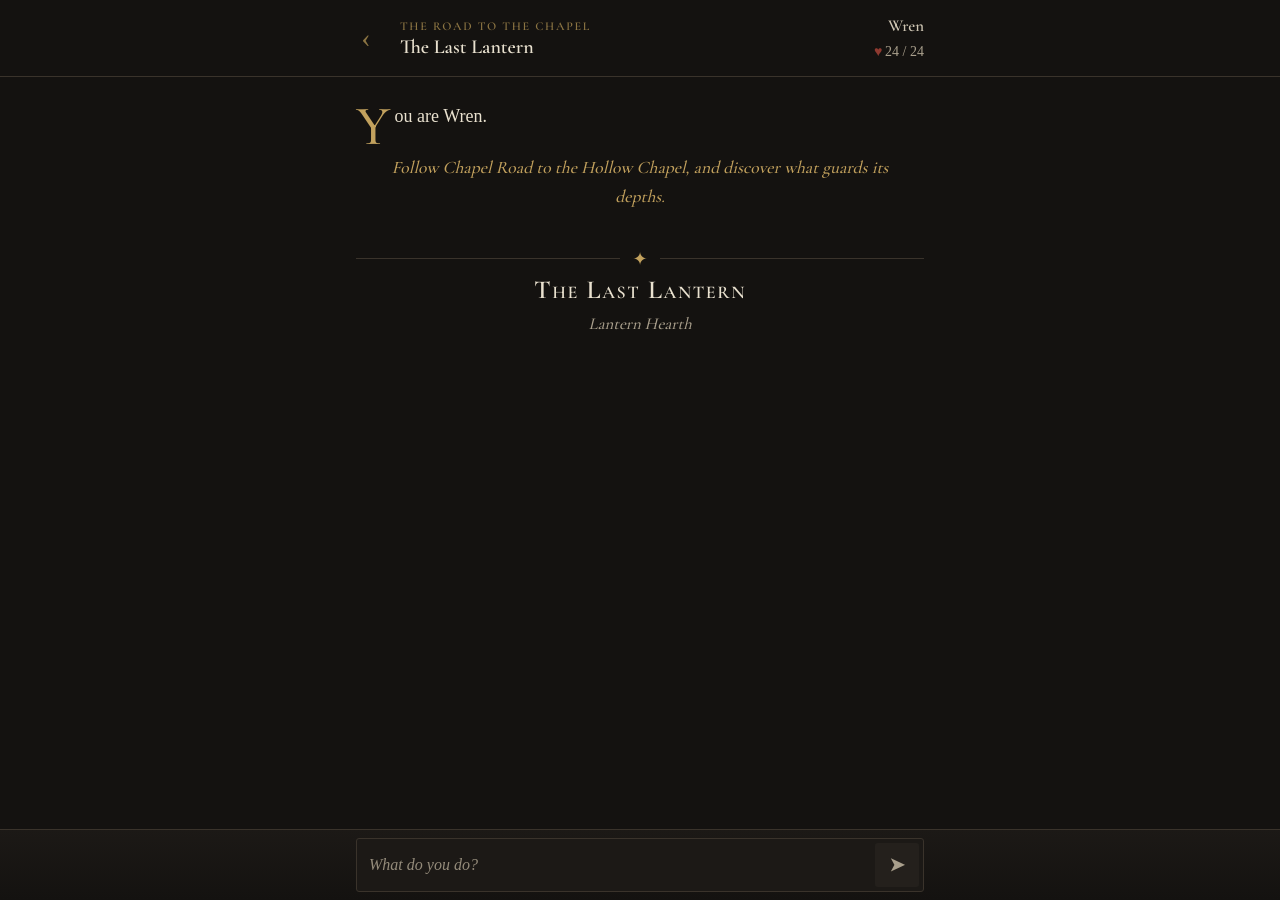
Test: when the answer is lost or deferred › recovers a lost response with the same key and shows the turn once
The width and height of the screenshot is (1280, 900).
expect the element named "Introduction" is shown: met, box [356,92,487,160]
Type "I wait." into the text box named "Your action" at {"x": 618, "y": 865}, box [369,843,867,887]
Then press Enter
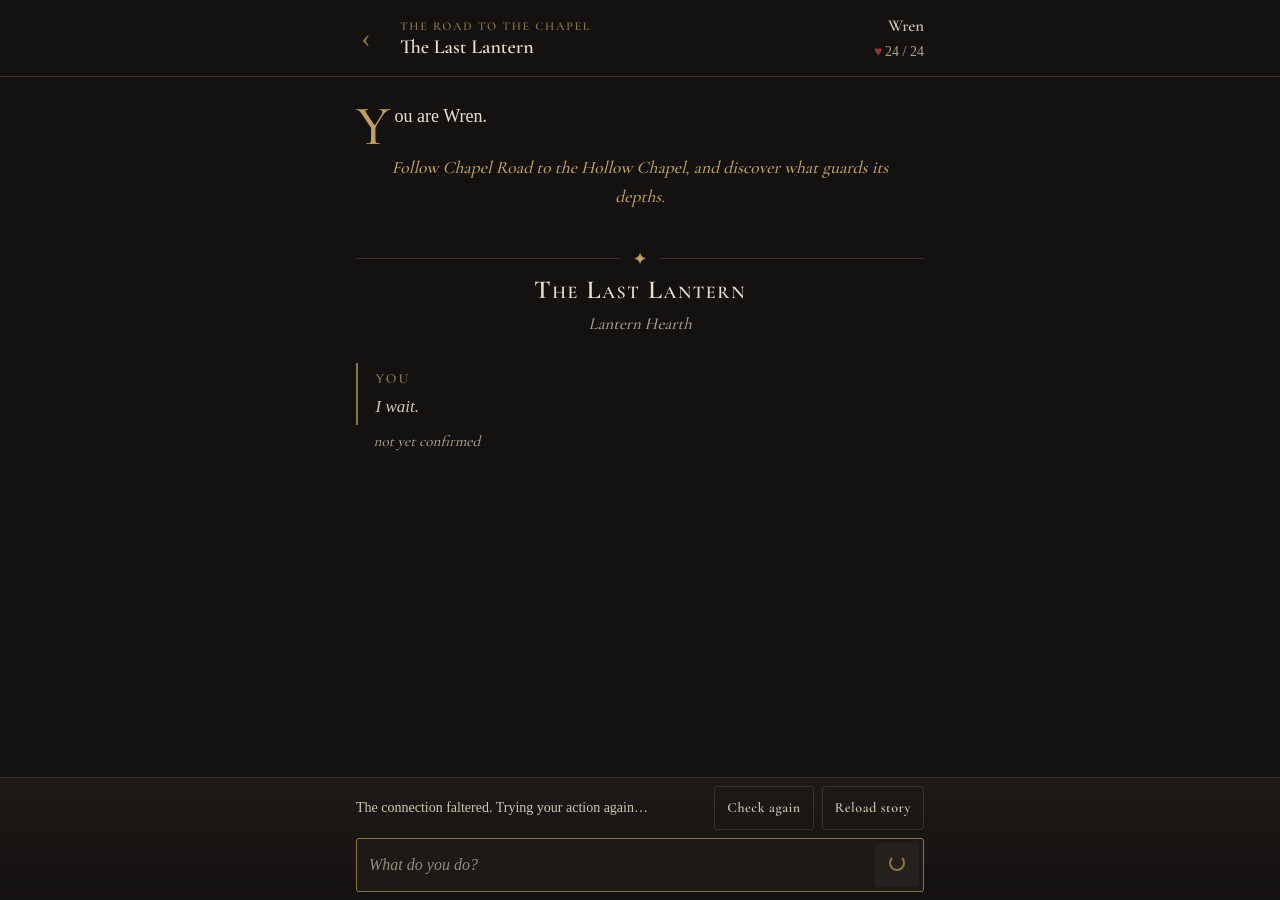
expect the text "The connection faltered. Trying your action again…" is shown: met, box [356,798,648,818]
expect the element named "Your action, not yet confirmed" shows "I wait.": met, box [376,396,419,416]
Click the button "Check again" at {"x": 764, "y": 808}, box [714,786,814,830]
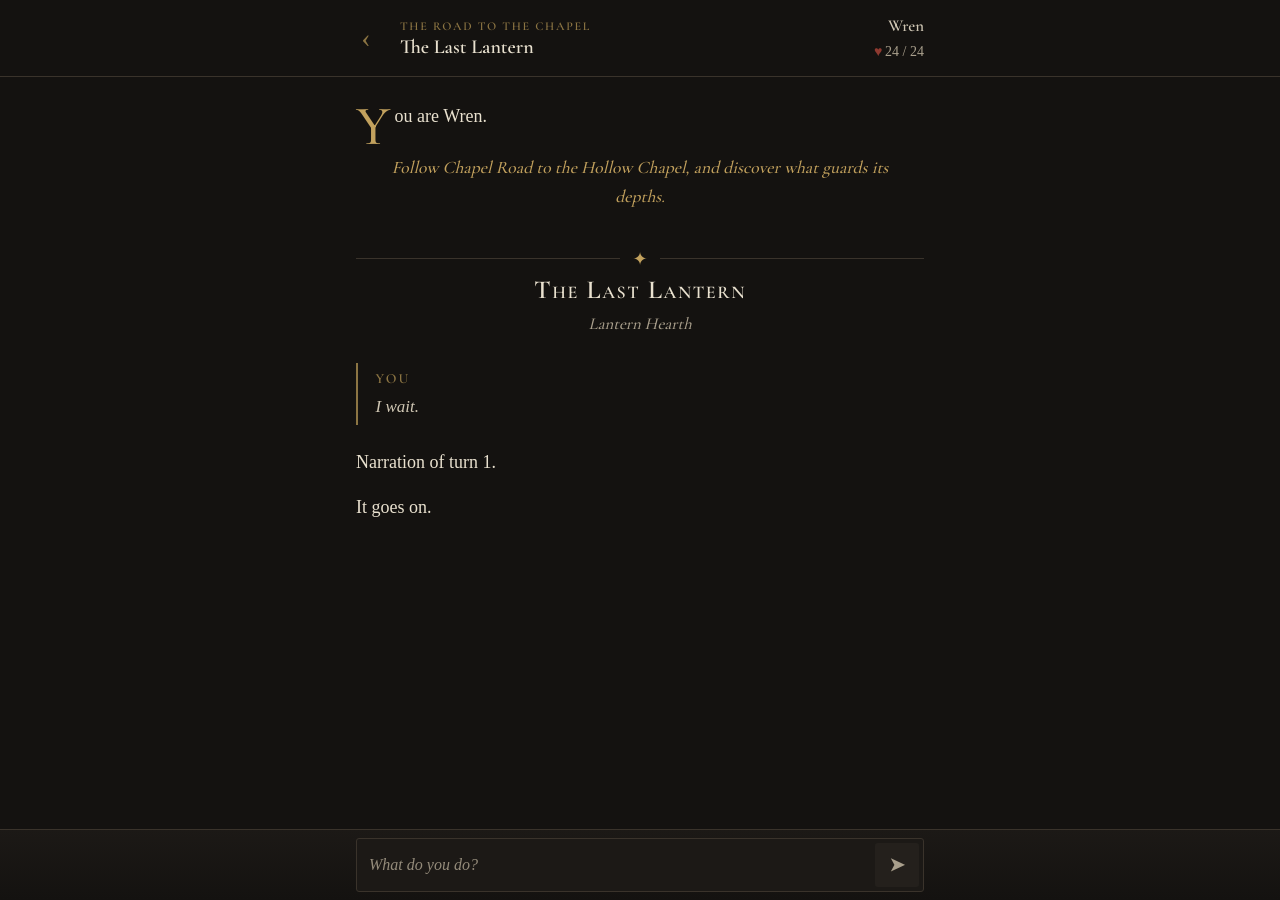
expect the text "Narration of turn 1." is shown: met, box [356,452,496,472]
